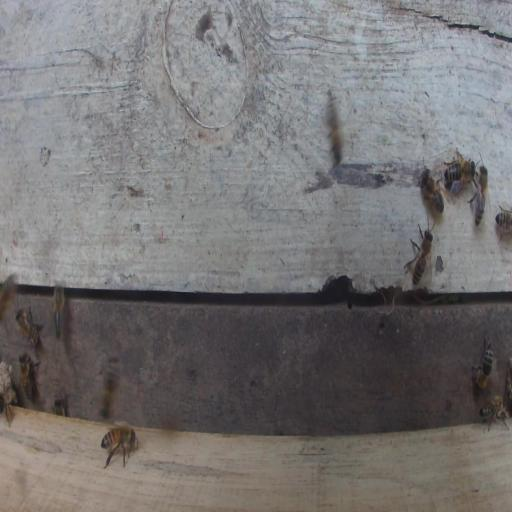bee: (404, 213, 437, 290), (100, 423, 139, 469), (442, 145, 475, 197), (325, 89, 344, 168), (99, 356, 121, 420), (418, 164, 445, 214), (468, 163, 488, 229), (19, 350, 42, 407), (478, 393, 510, 432), (471, 335, 493, 391), (15, 306, 42, 348), (1, 368, 17, 426), (52, 284, 66, 341), (1, 274, 17, 320), (495, 203, 512, 234), (54, 395, 68, 417)
